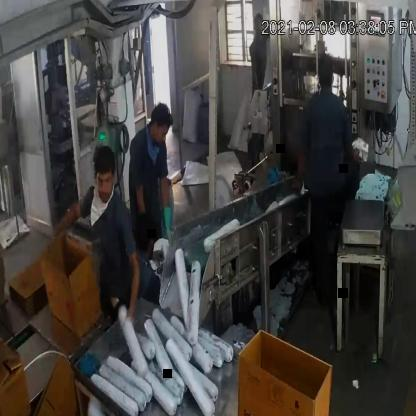glove: (156, 168, 181, 258)
no_glove: (114, 238, 145, 328), (43, 194, 91, 238)
